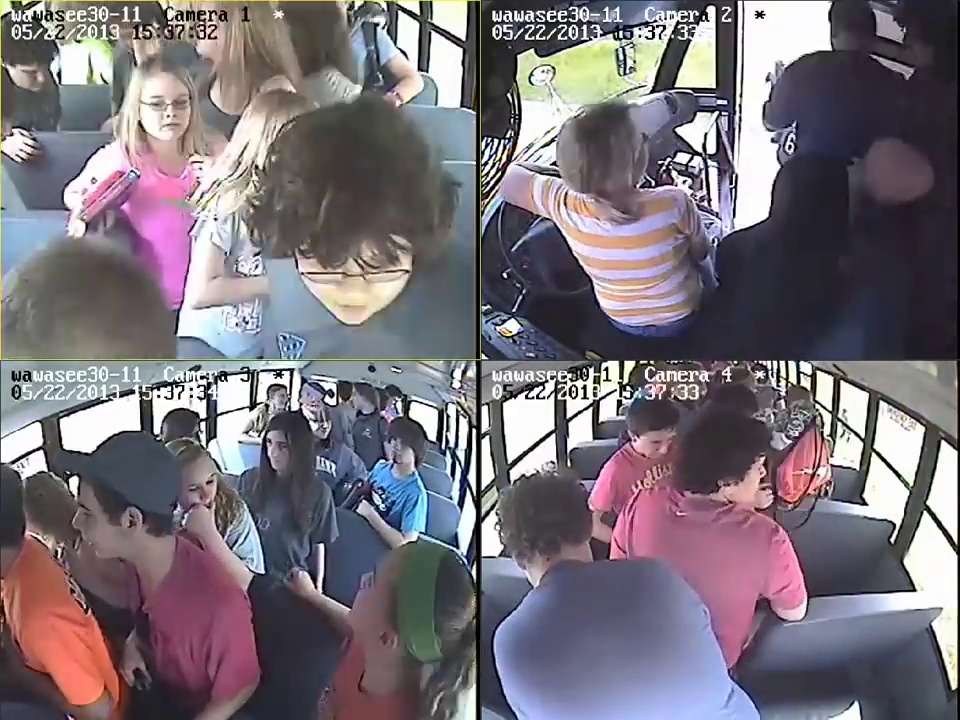face: (292, 234, 402, 329), (344, 555, 403, 628), (69, 481, 107, 563), (140, 77, 190, 137), (182, 457, 215, 508), (264, 426, 295, 476), (639, 421, 674, 459), (383, 434, 418, 465), (310, 411, 331, 441), (273, 391, 288, 411)
